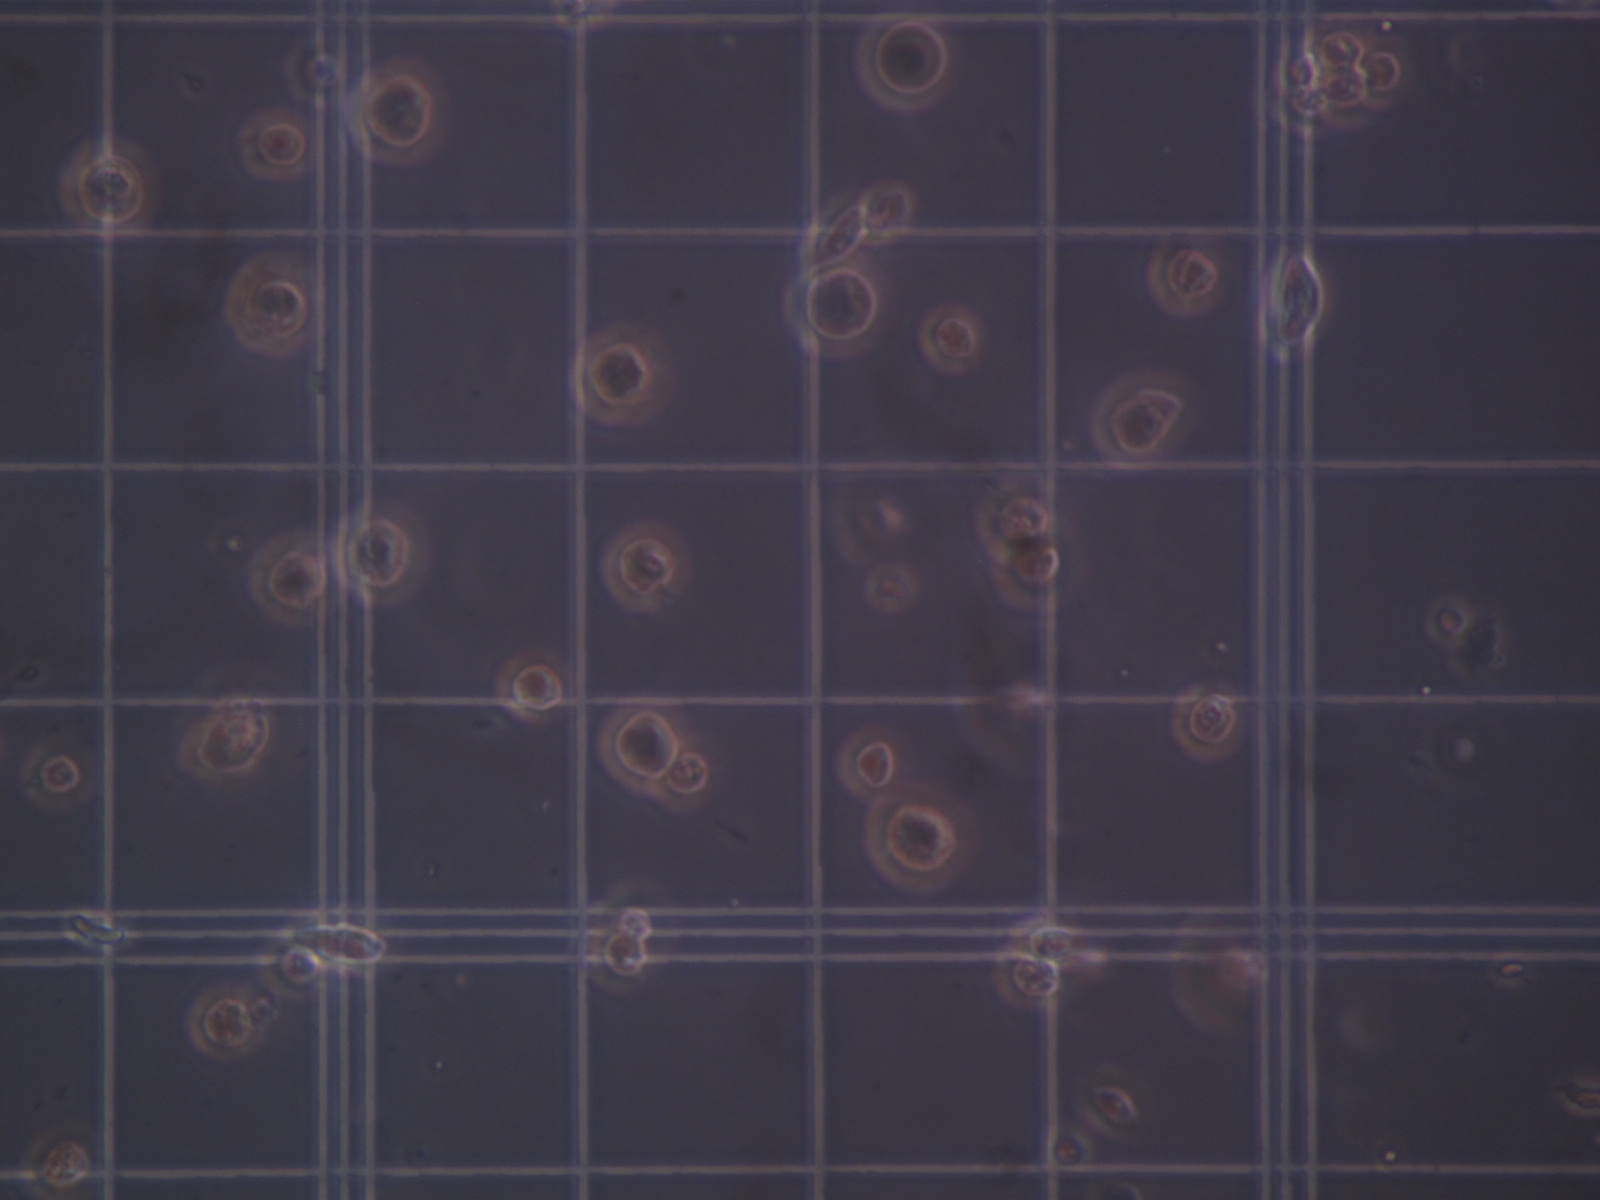hemo: (866, 784, 979, 889), (1083, 368, 1198, 471), (1168, 915, 1261, 1039), (568, 321, 673, 426), (331, 495, 428, 606), (60, 135, 163, 236), (345, 61, 446, 161), (855, 14, 952, 115), (220, 255, 315, 358), (784, 263, 878, 359), (249, 528, 335, 625), (593, 700, 683, 792), (601, 521, 687, 613), (1259, 250, 1325, 359), (176, 711, 270, 782), (1071, 1061, 1146, 1145), (23, 1118, 103, 1195), (1144, 231, 1220, 313), (602, 876, 680, 954), (285, 919, 391, 976), (21, 731, 96, 812), (976, 482, 1049, 563), (799, 195, 872, 276), (585, 906, 654, 991), (237, 105, 312, 179), (1173, 683, 1245, 761), (186, 984, 262, 1058), (991, 548, 1068, 614), (501, 645, 564, 721), (833, 725, 900, 795), (989, 948, 1062, 1012), (918, 303, 978, 376), (659, 737, 713, 813), (256, 937, 317, 997), (1007, 915, 1078, 966), (1361, 32, 1405, 113), (278, 43, 338, 103), (858, 180, 912, 245), (1265, 86, 1329, 137), (1315, 69, 1369, 129), (1039, 1124, 1096, 1175), (1305, 26, 1364, 72), (1426, 596, 1466, 645), (1270, 52, 1317, 89)
